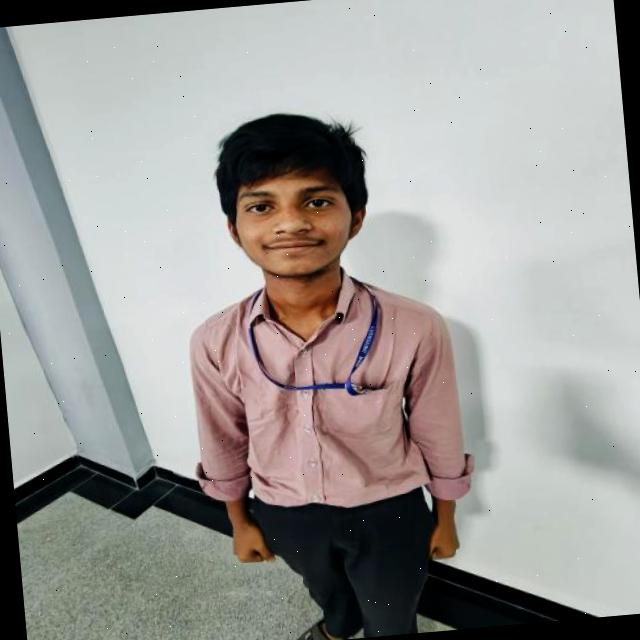Id strap: (249, 282, 377, 395)
